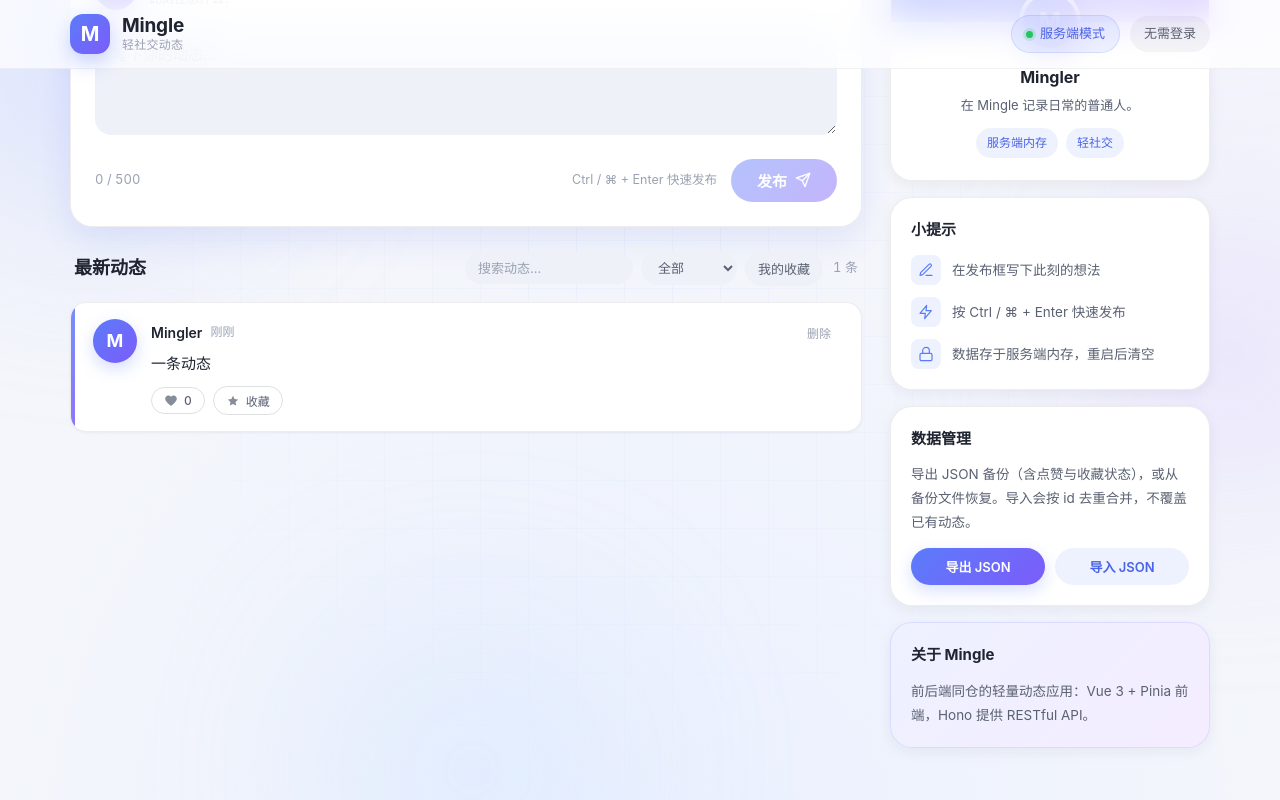
App › 点赞失败时弹出失败提示，计数不变
(page scrolled)
Click the button "0". click: [178, 401]
box: [151, 387, 205, 414]
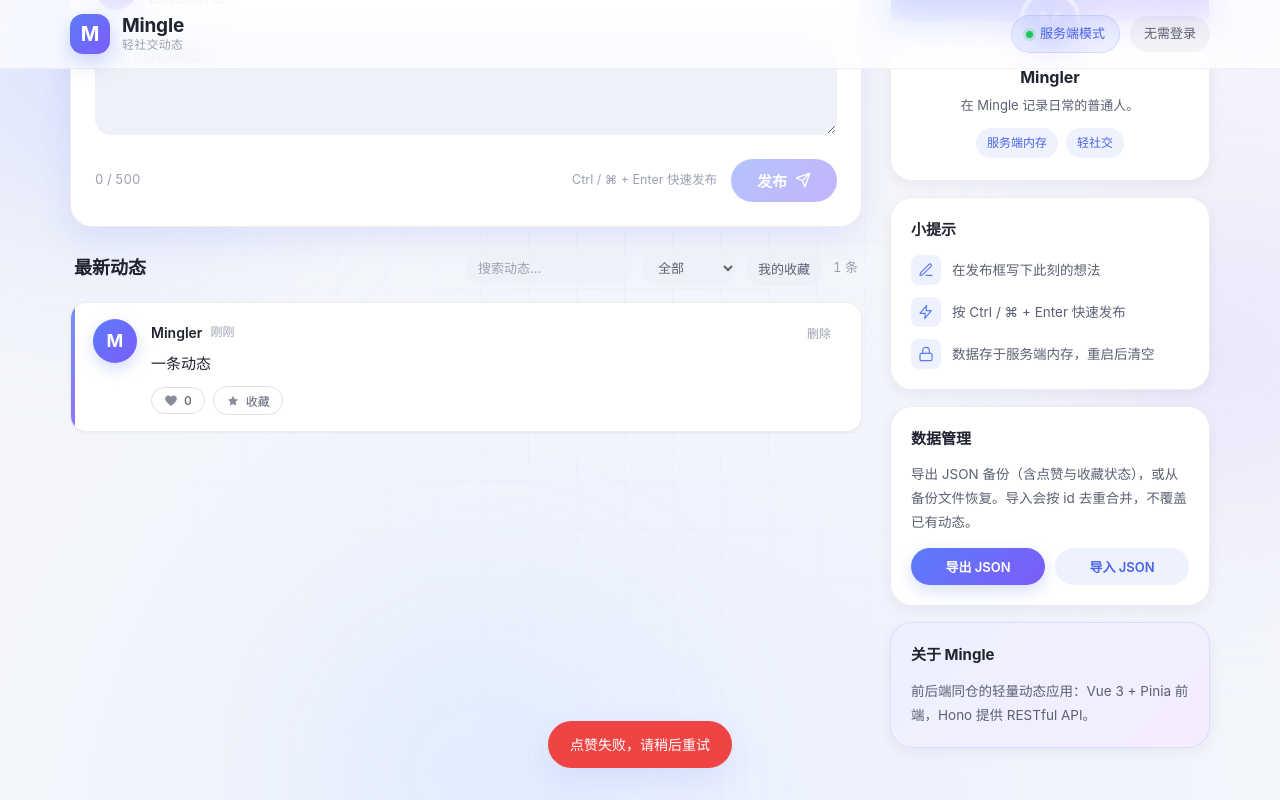
Now the message with class "toast" reads "点赞失败，请稍后重试", box [570, 736, 710, 753]
